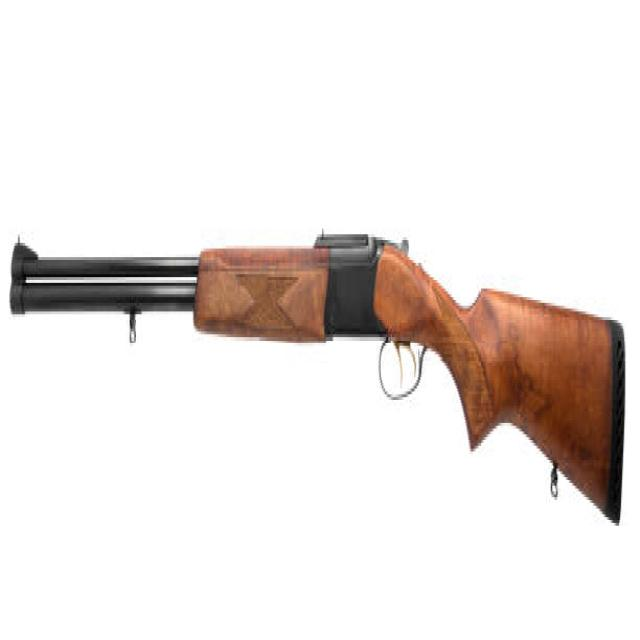rifle: (4, 214, 635, 553)
